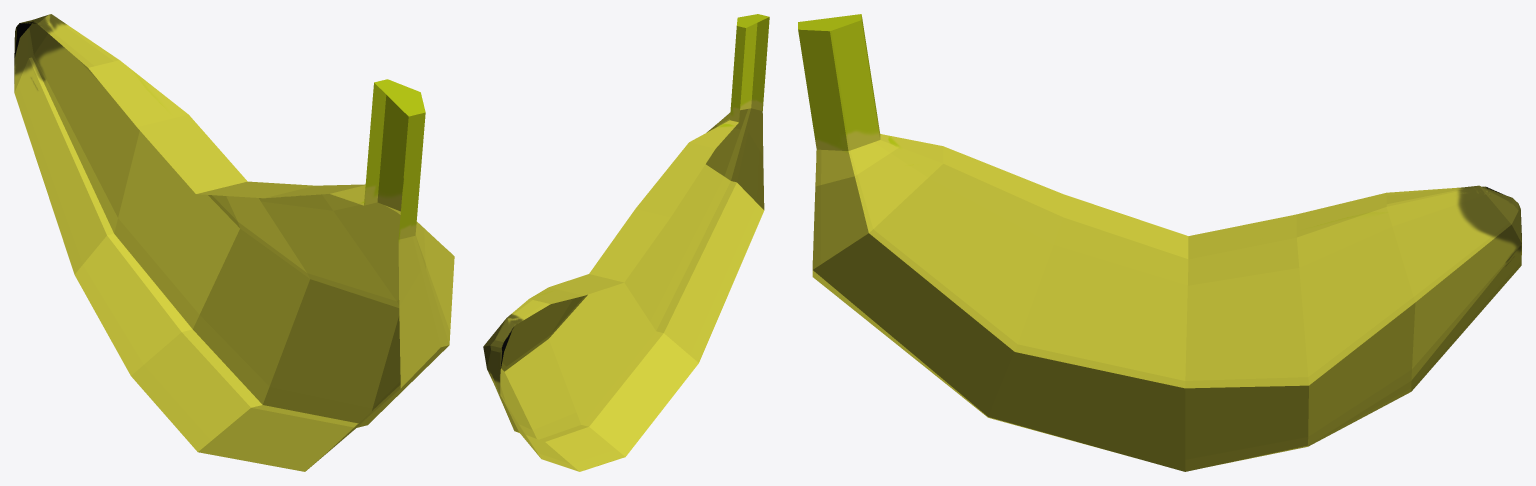
The model's file is banana.gltf.
3 renders of one model, left to right at view 1: azimuth 30°, elevation 25°; view 2: azimuth 150°, elevation 25°; view 3: azimuth 270°, elevation 25°, orthographic. The views are drawn at different scales.
Parts seen in each view (by area): view 1: Cube; view 2: Cube; view 3: Cube.
Boxes of the visible parts, left/top/right/bottom form: Cube: left=14, top=14, right=454, bottom=471; Cube: left=483, top=14, right=769, bottom=471; Cube: left=798, top=14, right=1521, bottom=471.
Size of the model in its own units: 0.8574 by 3.64 by 5.21.
Materials: 1 (1 with a texture image).
